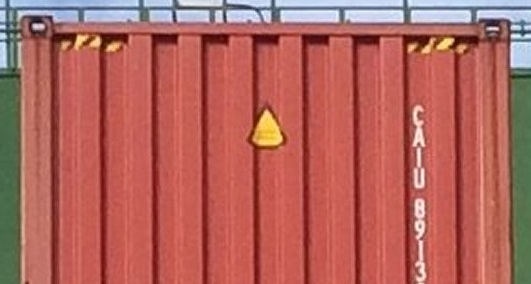container_no_door: (24, 12, 510, 284)
